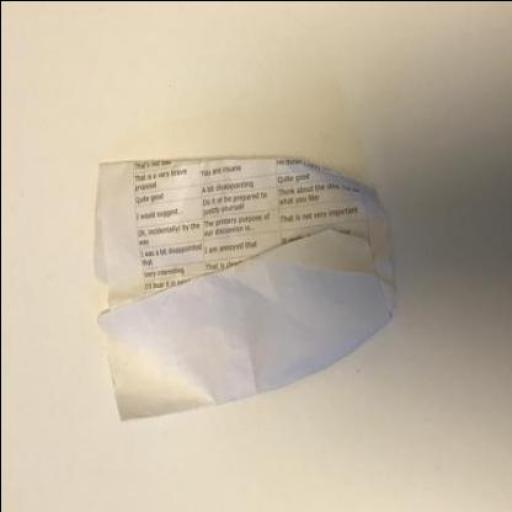paper: (93, 154, 394, 417)
